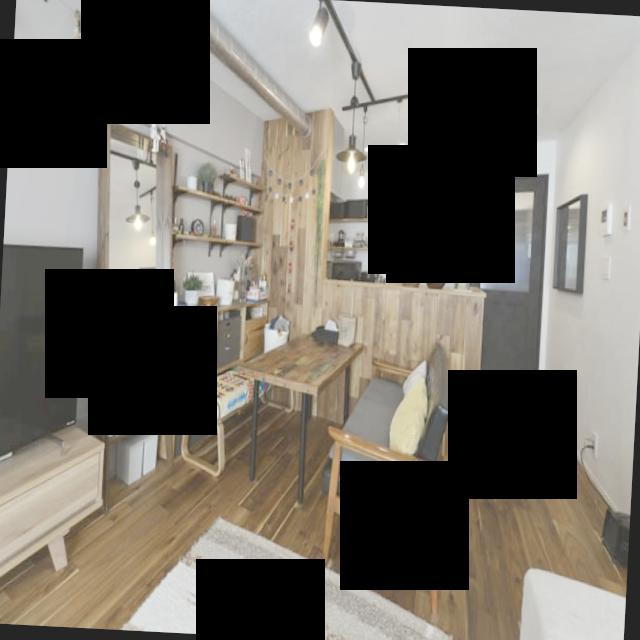vintage desk: (231, 324, 364, 498)
vintage shelf: (155, 144, 284, 364), (0, 417, 110, 608)
vintage sofa: (322, 336, 462, 626)
